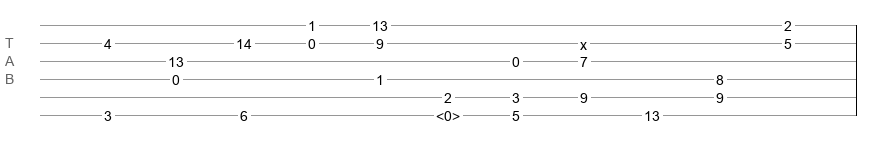0: (172, 72, 180, 82), (308, 36, 316, 46), (512, 54, 520, 64)
1: (308, 18, 316, 28), (376, 72, 384, 82)
13: (168, 54, 184, 64), (372, 18, 388, 28), (644, 108, 660, 118)
14: (236, 36, 252, 46)
2: (444, 90, 452, 100), (784, 18, 792, 28)
3: (104, 108, 112, 118), (512, 90, 520, 100)
4: (104, 36, 112, 46)
5: (512, 108, 520, 118), (784, 36, 792, 46)
6: (240, 108, 248, 118)
7: (580, 54, 588, 64)
8: (716, 72, 724, 82)
9: (376, 36, 384, 46), (580, 90, 588, 100), (716, 90, 724, 100)
harmonic: (436, 108, 460, 118)
x: (580, 37, 587, 45)
